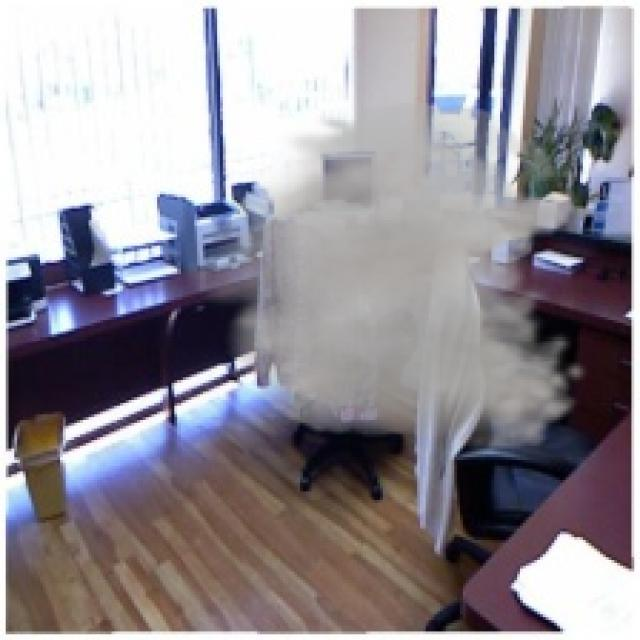smoke: (174, 103, 589, 451)
